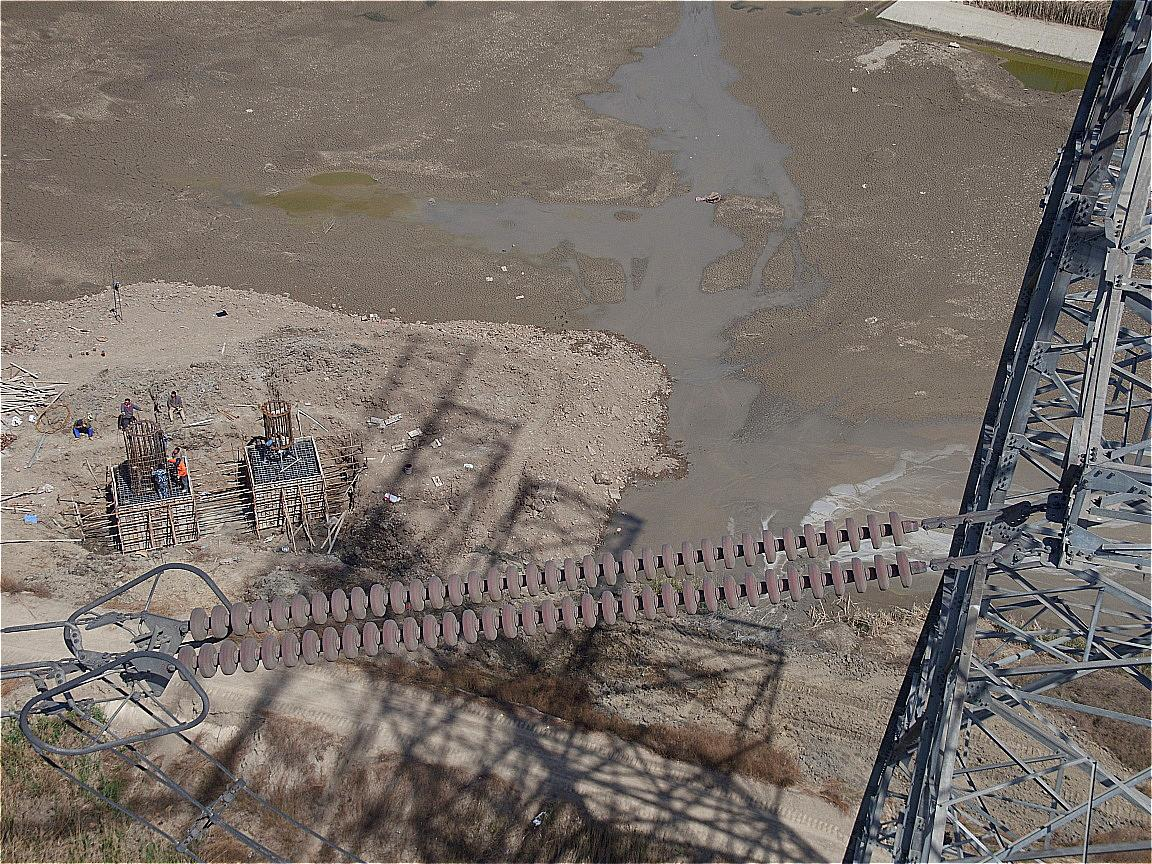insultor1: (168, 508, 934, 695)
